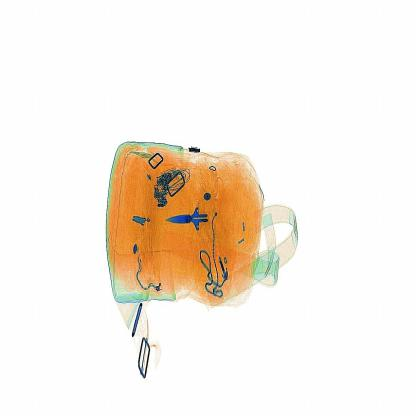gun: (164, 186, 223, 242)
